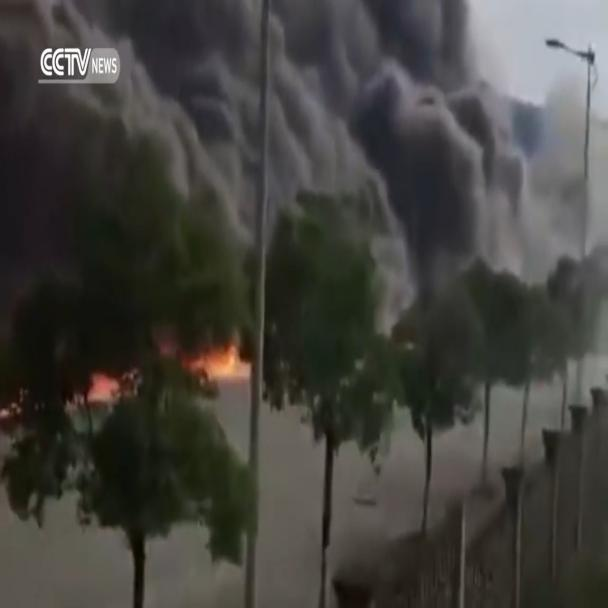Fire: (11, 271, 266, 468)
smoke: (0, 0, 594, 247)
